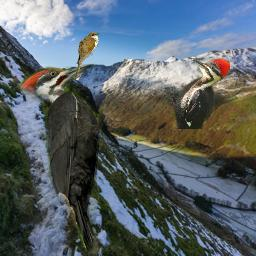Cuckoo: (74, 32, 100, 80)
Woodpecker: (18, 63, 127, 254), (164, 57, 230, 129)
